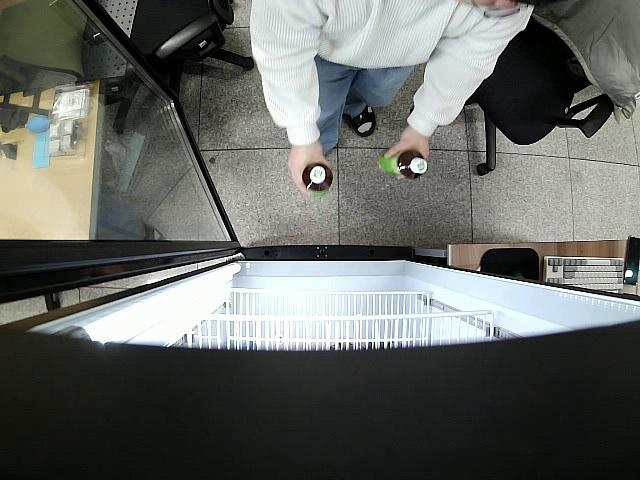00_hand: (286, 153, 333, 197), (384, 136, 431, 179)
19_17cha: (377, 150, 427, 179), (301, 162, 333, 199)
